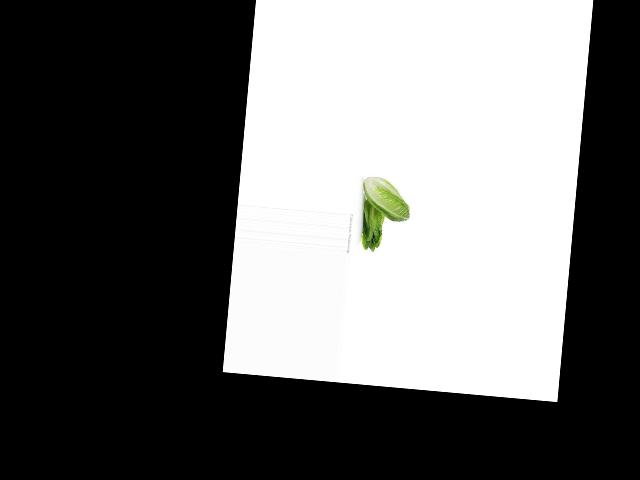lettuce: (353, 198, 390, 252)
